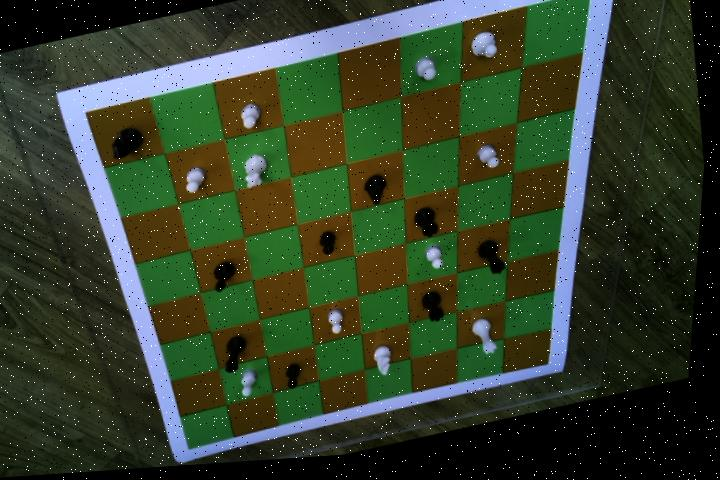chessboard-detect: (87, 0, 591, 453)
